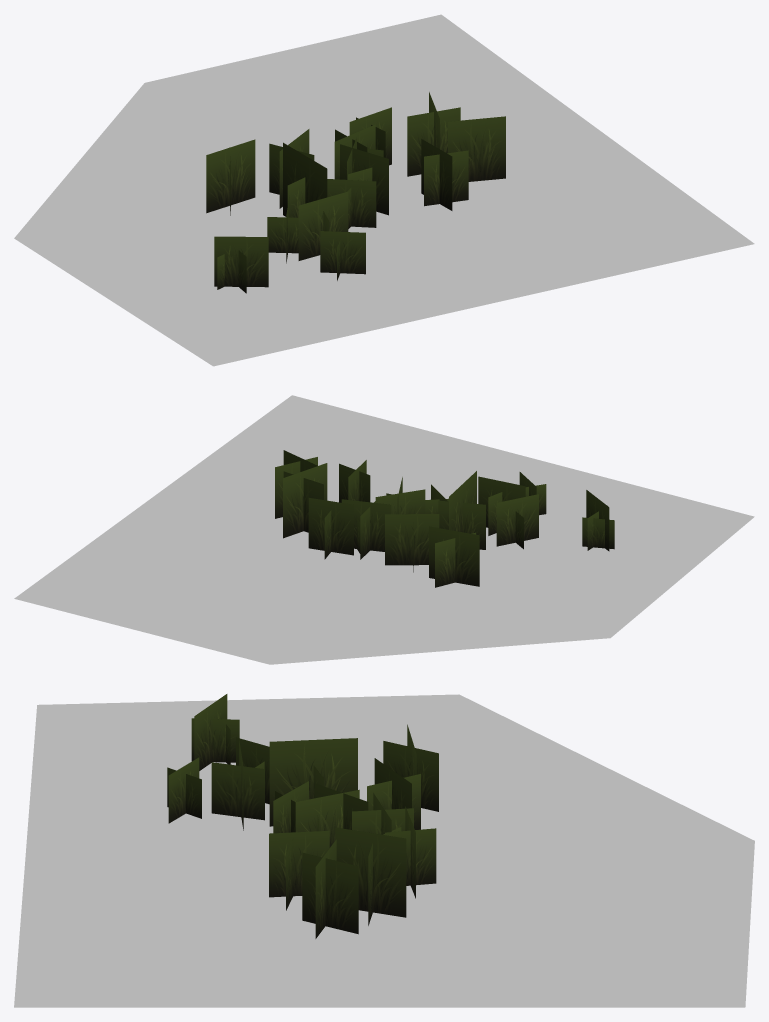
Rendered from Mud_Decal_06.fbx.
3 renders of one model, top to bottom at view 1: azimuth 30°, elevation 25°; view 2: azimuth 150°, elevation 25°; view 3: azimuth 270°, elevation 25°, orthographic. The views are drawn at different scales.
Parts seen in each view (by area): view 1: Mud_Decal_06; view 2: Mud_Decal_06; view 3: Mud_Decal_06.
Boxes of the visible parts, x1,y1,x2,y2 form: Mud_Decal_06: [14, 14, 754, 366]; Mud_Decal_06: [14, 395, 754, 664]; Mud_Decal_06: [14, 694, 754, 1007].
Size of the model in its own units: 8.92 by 8.92 by 1.15.
